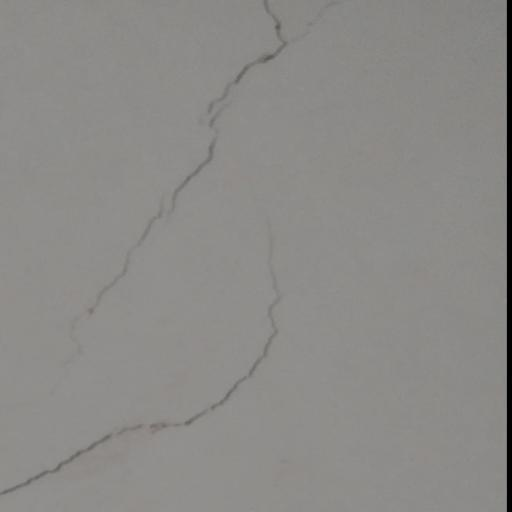minor_crack: (0, 0, 324, 511)
